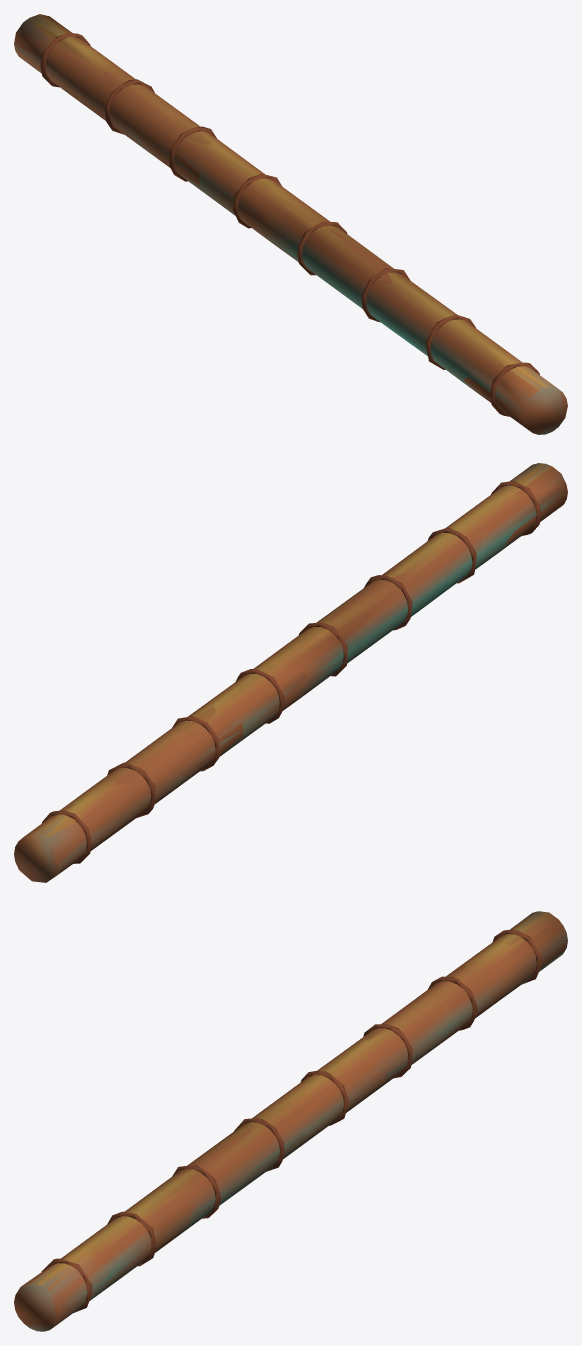
File: grotto_copper_pipe_lod2.glb
The picture shows the model from 3 angles, top to bottom: view 1: azimuth 30°, elevation 25°; view 2: azimuth 150°, elevation 25°; view 3: azimuth 330°, elevation 25°; orthographic projection.
Parts seen in each view (by area): view 1: grotto_copper_pipe.001; view 2: grotto_copper_pipe.001; view 3: grotto_copper_pipe.001.
Boxes of the visible parts, bbox=[...] form: grotto_copper_pipe.001: bbox=[14, 14, 567, 434]; grotto_copper_pipe.001: bbox=[14, 463, 567, 882]; grotto_copper_pipe.001: bbox=[14, 911, 567, 1331].
Size of the model in its own units: 3.01 by 3.01 by 51.21.
